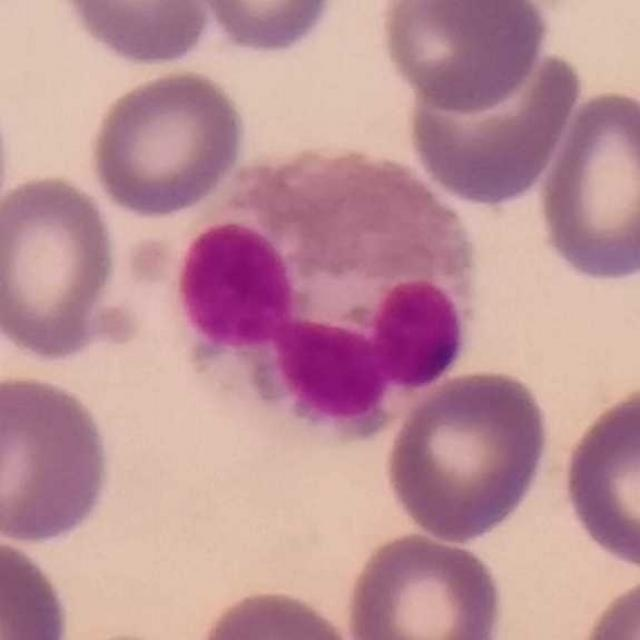Eosinophil: (173, 140, 488, 448)
RBC: (399, 37, 586, 209), (382, 365, 553, 545), (86, 66, 247, 220), (1, 169, 123, 364), (533, 86, 640, 286), (0, 368, 117, 549), (373, 0, 550, 116), (341, 528, 508, 640), (557, 379, 640, 575), (49, 0, 215, 69), (187, 583, 365, 640), (187, 0, 341, 58), (0, 532, 76, 640), (572, 569, 640, 640)
